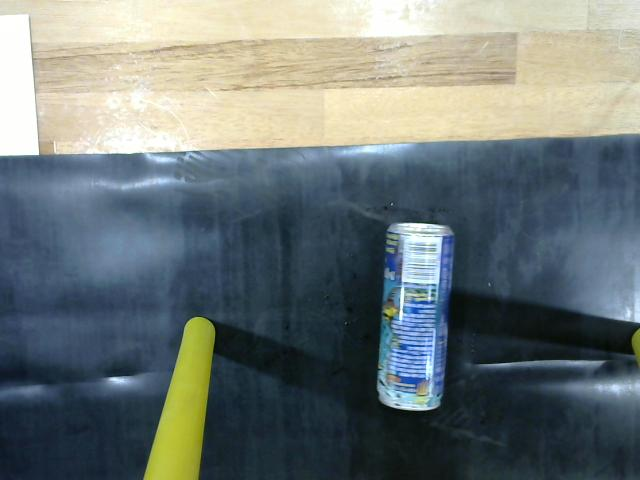can: (372, 212, 462, 416)
